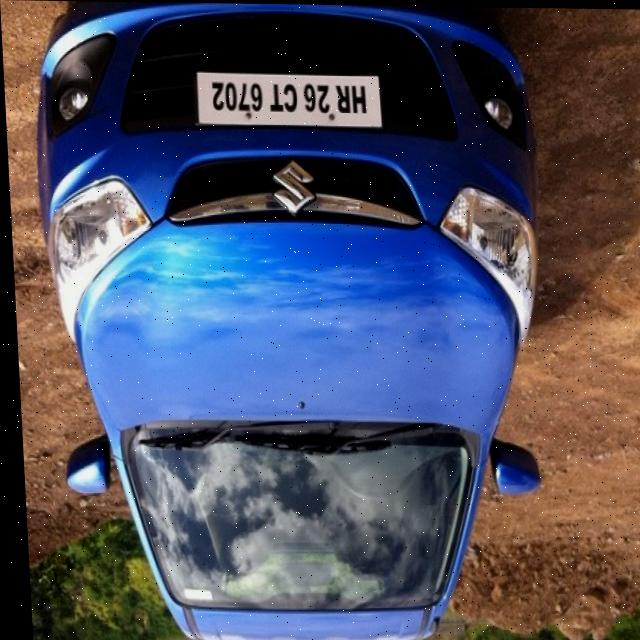plate: (194, 70, 383, 129)
